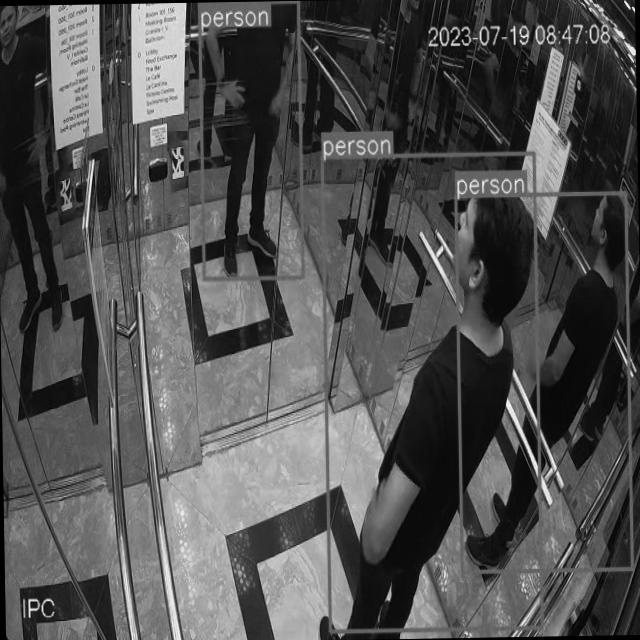person: (323, 154, 543, 628), (456, 193, 630, 574), (200, 0, 304, 279), (0, 4, 66, 330)
